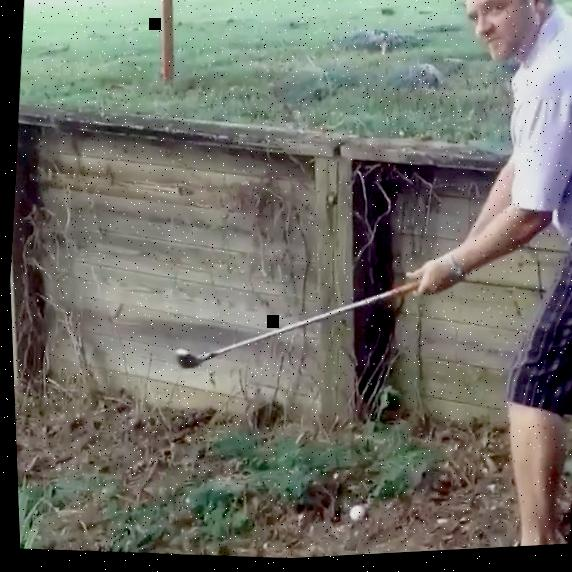ClubHead: (171, 348, 201, 372)
GolfBall: (340, 505, 365, 525)
